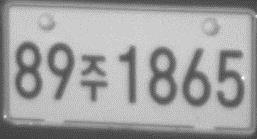1: (118, 44, 138, 104)
5: (215, 48, 244, 107)
6: (181, 47, 210, 106)
8: (13, 40, 42, 99), (148, 46, 177, 105)
9: (47, 42, 74, 101)
주: (79, 53, 108, 101)
